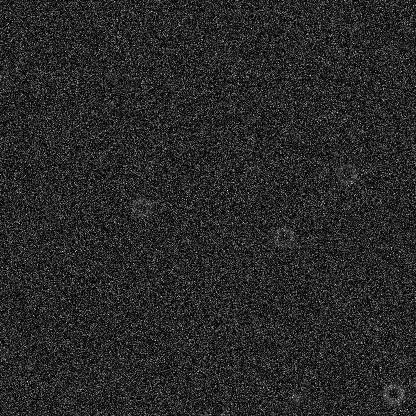Ring: (381, 381, 405, 405), (271, 225, 295, 249), (335, 161, 359, 185), (165, 329, 189, 353), (130, 194, 154, 218)
Spot: (288, 390, 304, 406)
